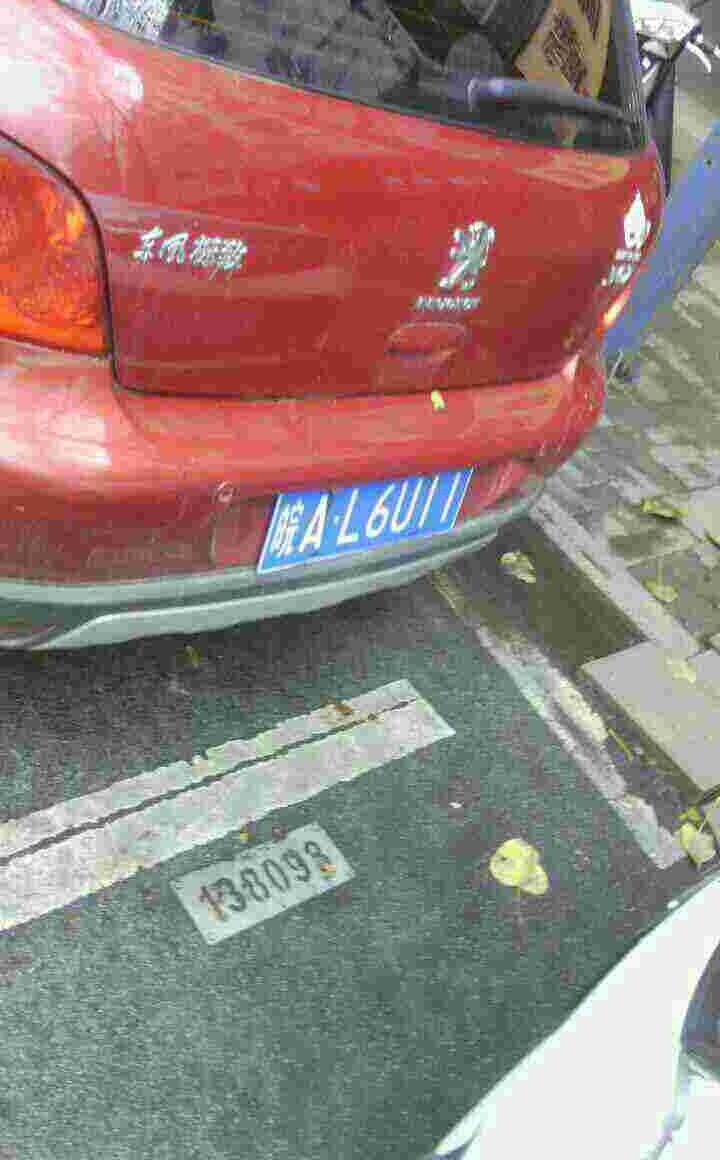car: (275, 490, 469, 552)
